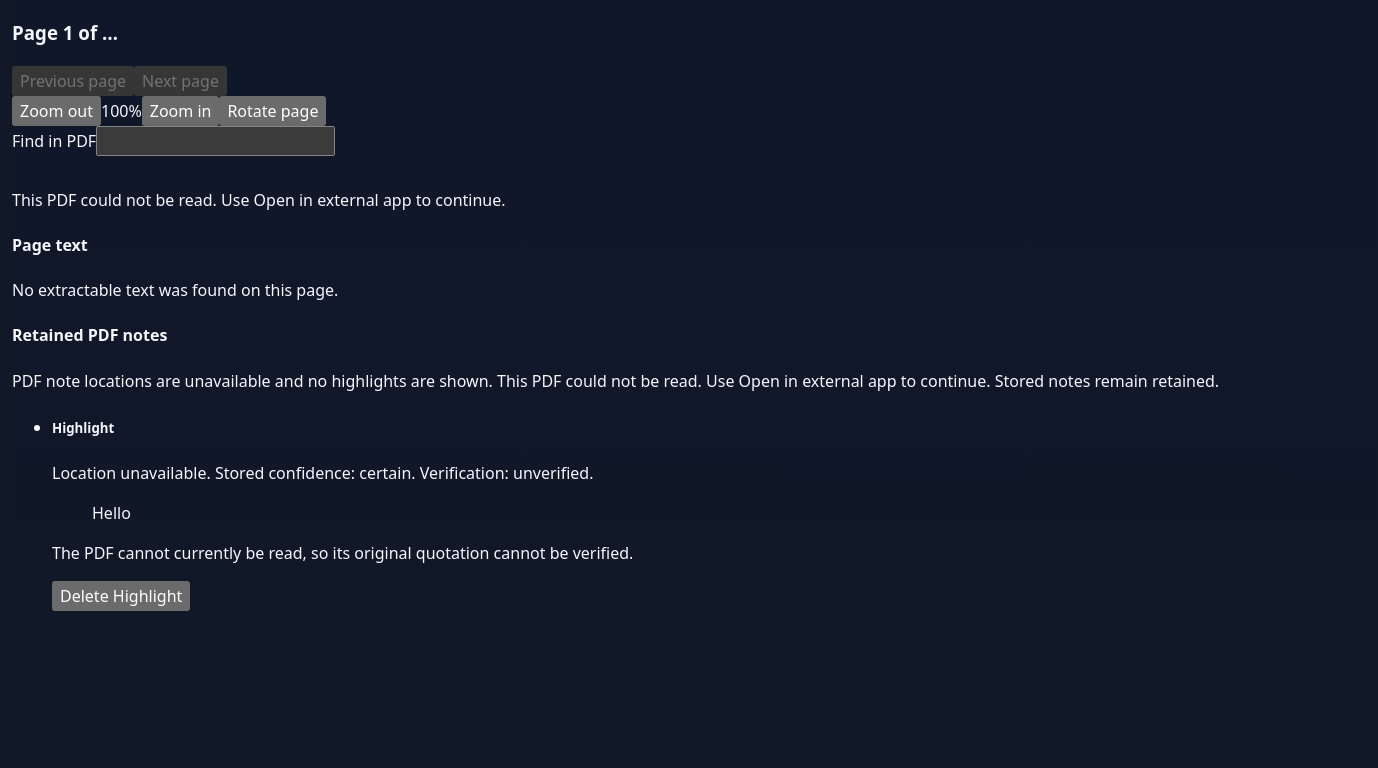
it: PDF reader annotation rendering › retains original stored notes when PDF parsing fails and supports deletion without unsafe highlights
expect the element named "Unavailable PDF notes" shows "Stored notes remain retained.": met, box [991,370,1219,392]
expect the text "Hello" is shown: met, box [92,502,131,524]
Click the button "Delete Highlight" at point(121, 596), box [52,581,190,611]
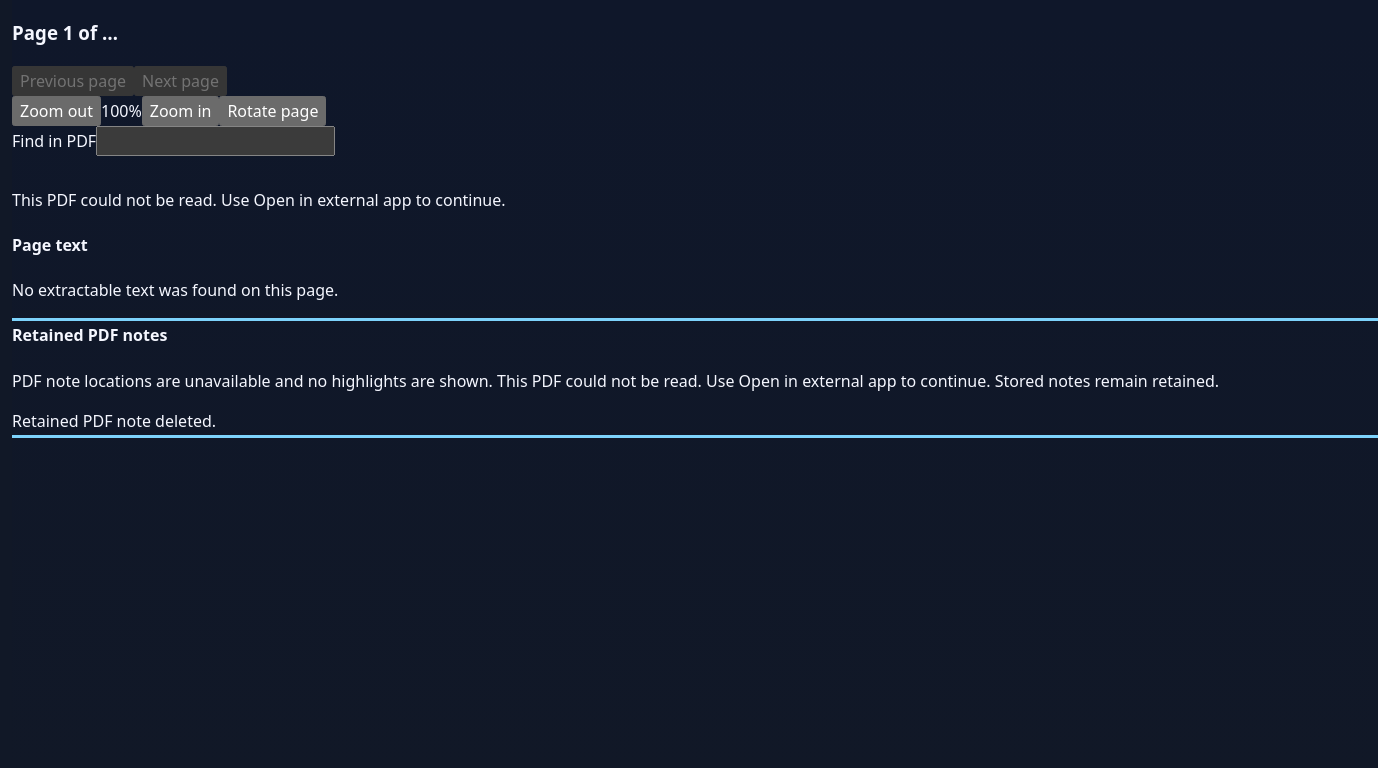
expect the button "Delete Highlight" is gone: met
